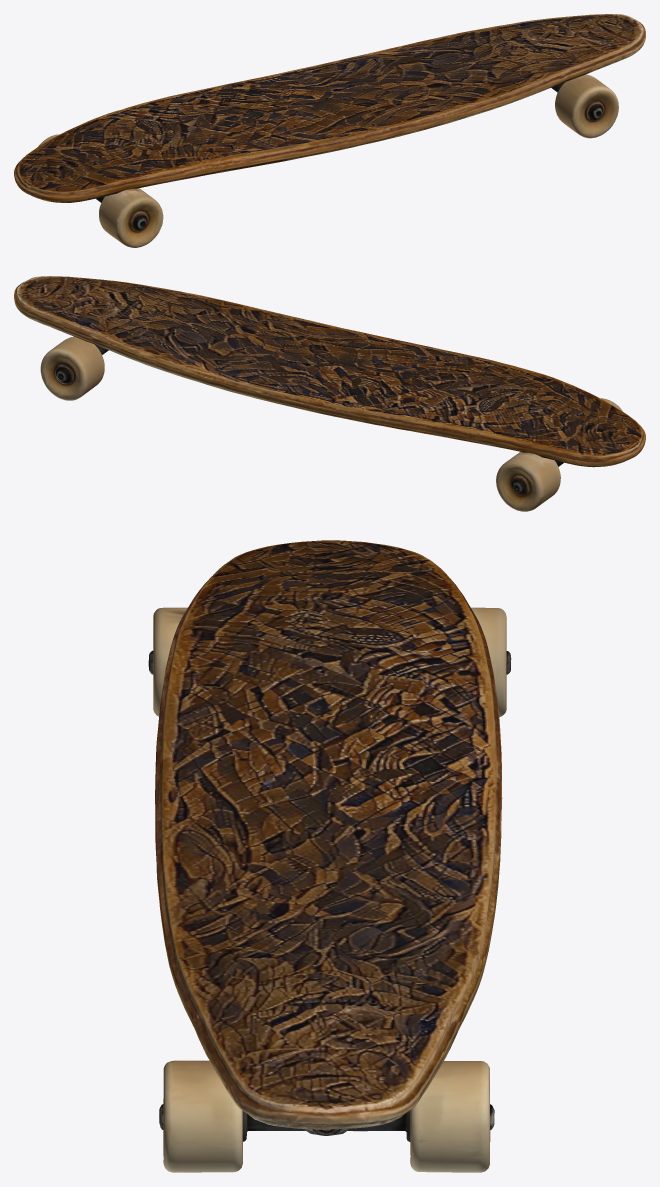
File: CCG_Deck_ViceMonsoonLuxeRemix_web.glb
The picture shows the model from 3 angles, top to bottom: view 1: azimuth 30°, elevation 25°; view 2: azimuth 150°, elevation 25°; view 3: azimuth 270°, elevation 25°; orthographic projection. The views are drawn at different scales.
Visible parts, largest first — view 1: SM_Deck_ViceMonsoonLuxeRemix; view 2: SM_Deck_ViceMonsoonLuxeRemix; view 3: SM_Deck_ViceMonsoonLuxeRemix.
Part boxes in pixels (box(x1,y1,x2,y2)): SM_Deck_ViceMonsoonLuxeRemix: box(14, 14, 645, 247); SM_Deck_ViceMonsoonLuxeRemix: box(14, 276, 645, 511); SM_Deck_ViceMonsoonLuxeRemix: box(148, 540, 511, 1172).
Size of the model in its own units: 0.8199 by 0.093 by 0.2086.
1 material, 1 textured.
